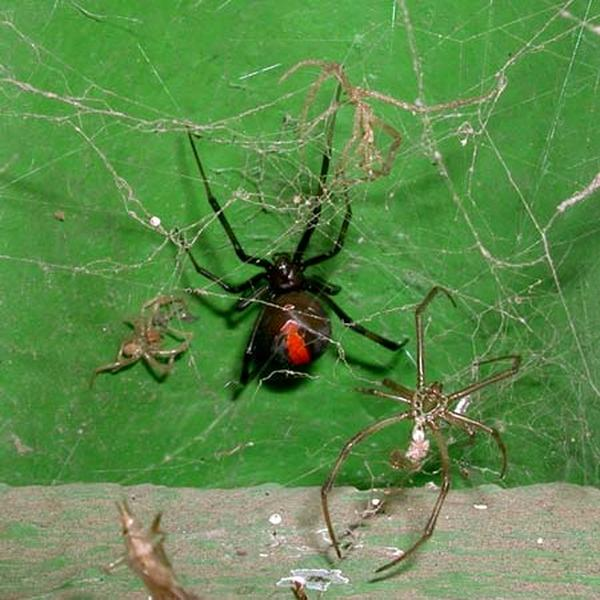Redback Spider: (182, 130, 411, 393)
